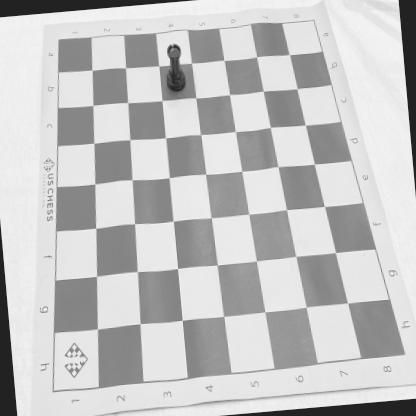black-rook: (162, 42, 186, 94)
